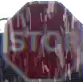Stop: (4, 2, 82, 81)
